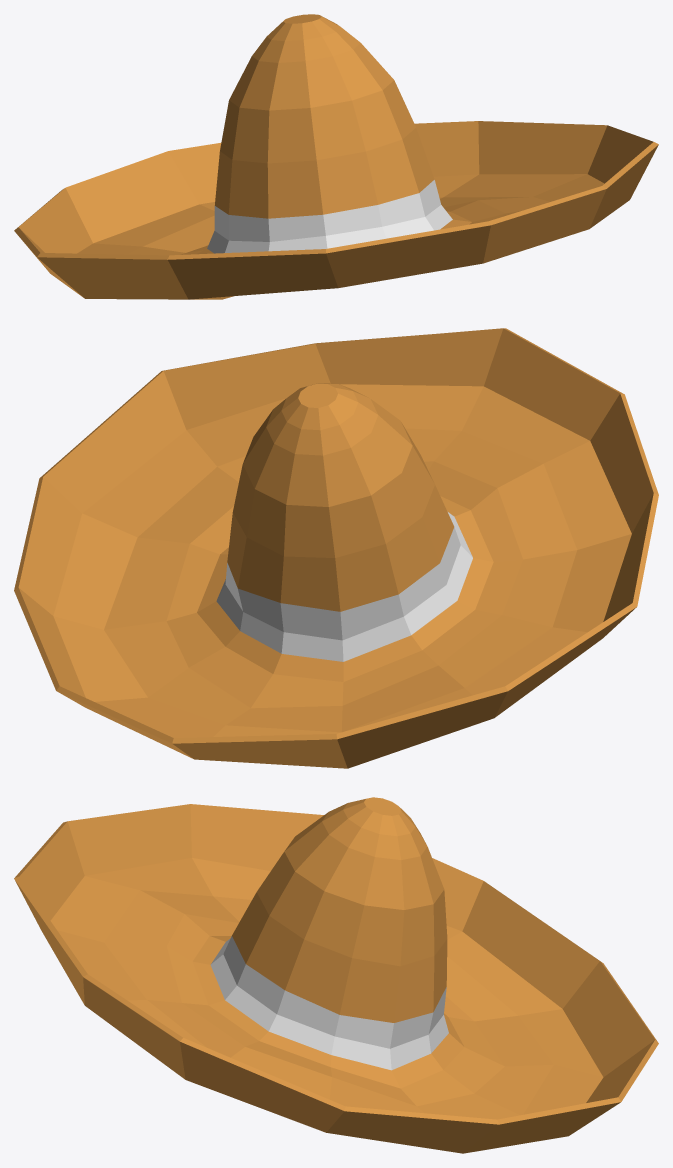
Rendered from Male Hat.fbx.
3 views of the same model, one above another, from view 1: azimuth 30°, elevation 25°; view 2: azimuth 150°, elevation 25°; view 3: azimuth 270°, elevation 25° (orthographic). The views are drawn at different scales.
Parts seen in each view (by area): view 1: Circle.001; view 2: Circle.001; view 3: Circle.001.
Boxes of the visible parts, <box> form: Circle.001: <box>14,14,658,299</box>; Circle.001: <box>14,328,658,768</box>; Circle.001: <box>14,797,658,1153</box>.
Size of the model in its own units: 265 by 122 by 258.
